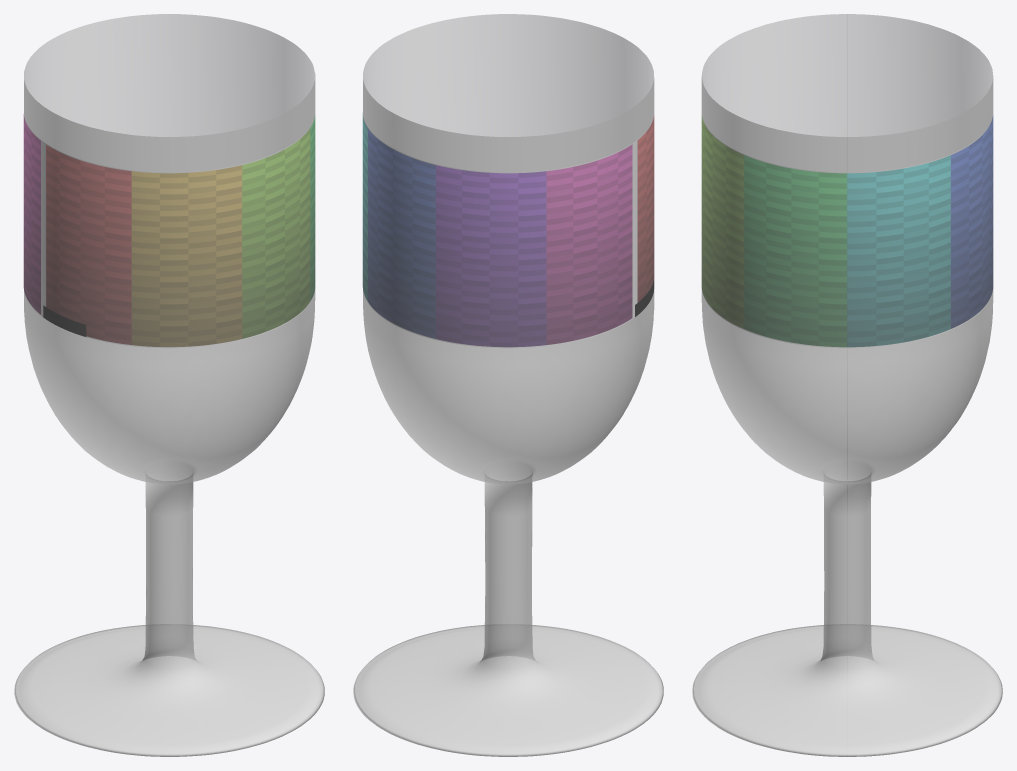
The model's file is VerreAVin.glb.glb.
3 renders of one model, left to right at view 1: azimuth 30°, elevation 25°; view 2: azimuth 150°, elevation 25°; view 3: azimuth 270°, elevation 25°, orthographic.
Visible parts, largest first — view 1: Cylinder; view 2: Cylinder; view 3: Cylinder.
Boxes of the visible parts, x1,y1,x2,y2 form: Cylinder: (14, 14, 324, 756); Cylinder: (353, 14, 663, 756); Cylinder: (692, 14, 1002, 756).
Size of the model in its own units: 0.064 by 0.14 by 0.064.
2 materials, 1 textured.
